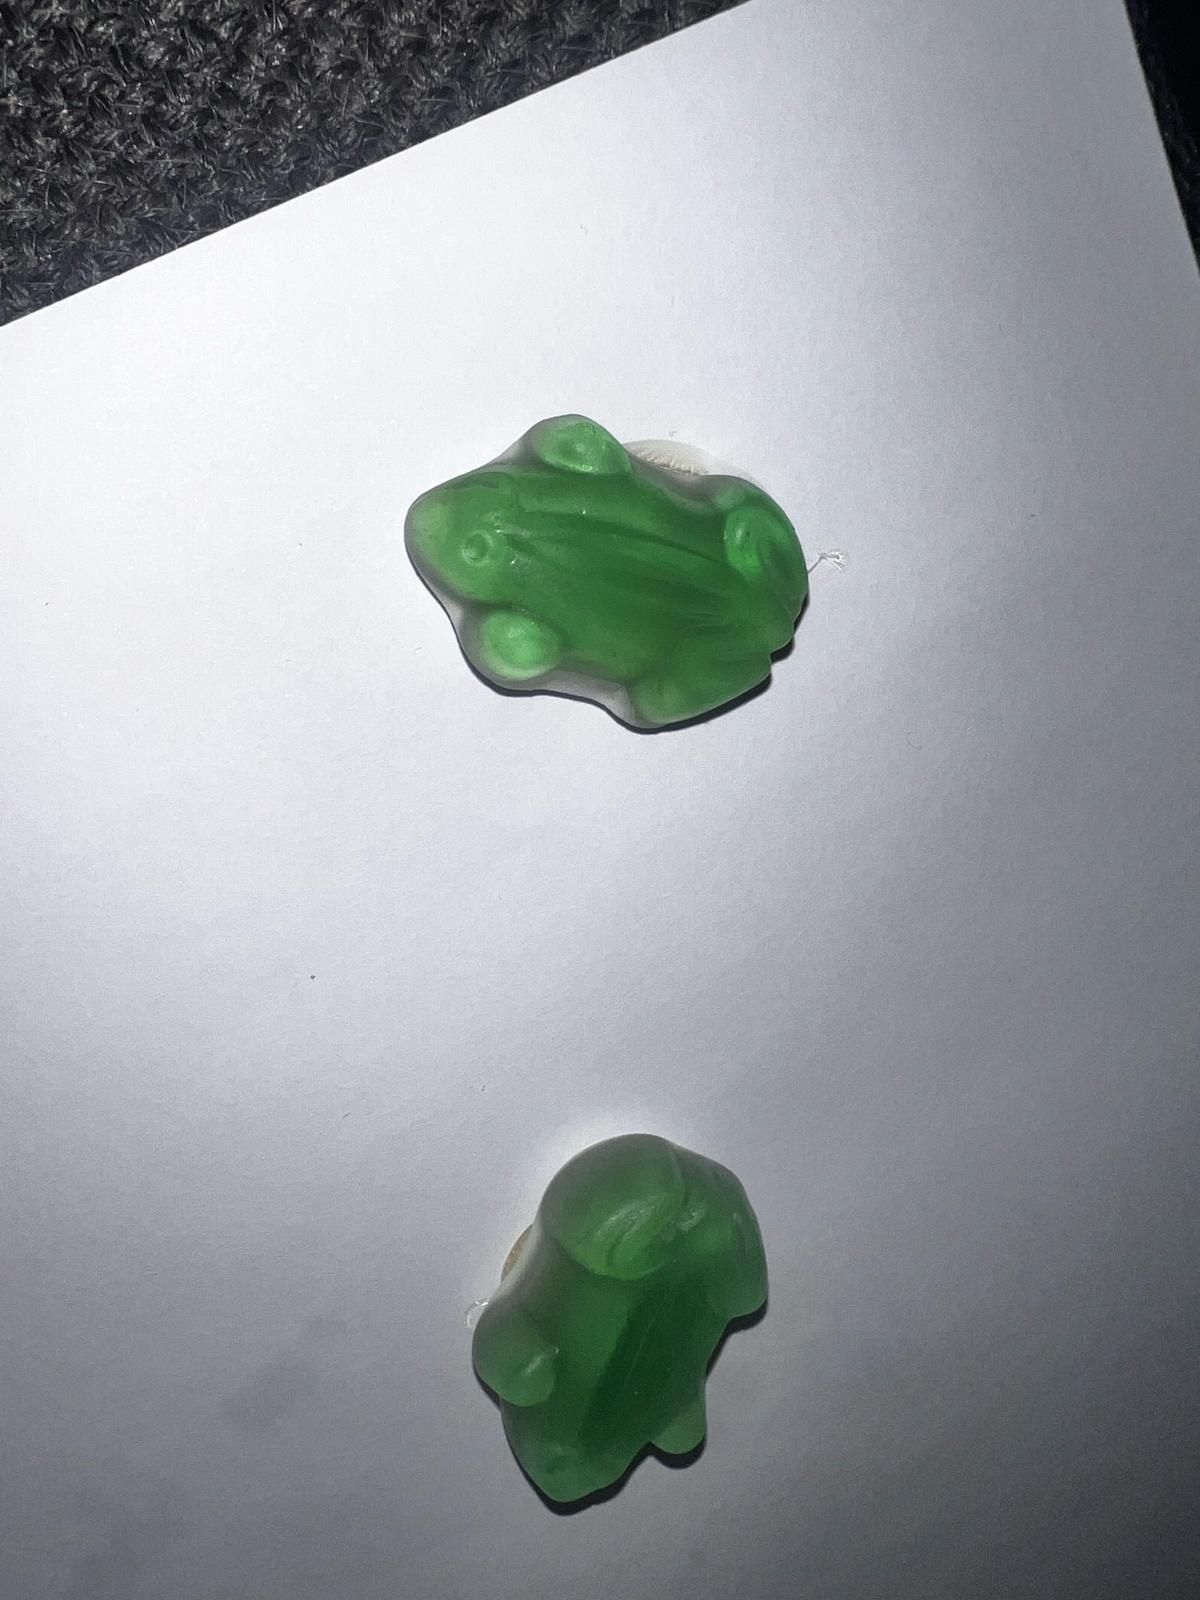frog: (395, 404, 819, 745), (469, 1119, 775, 1521)
